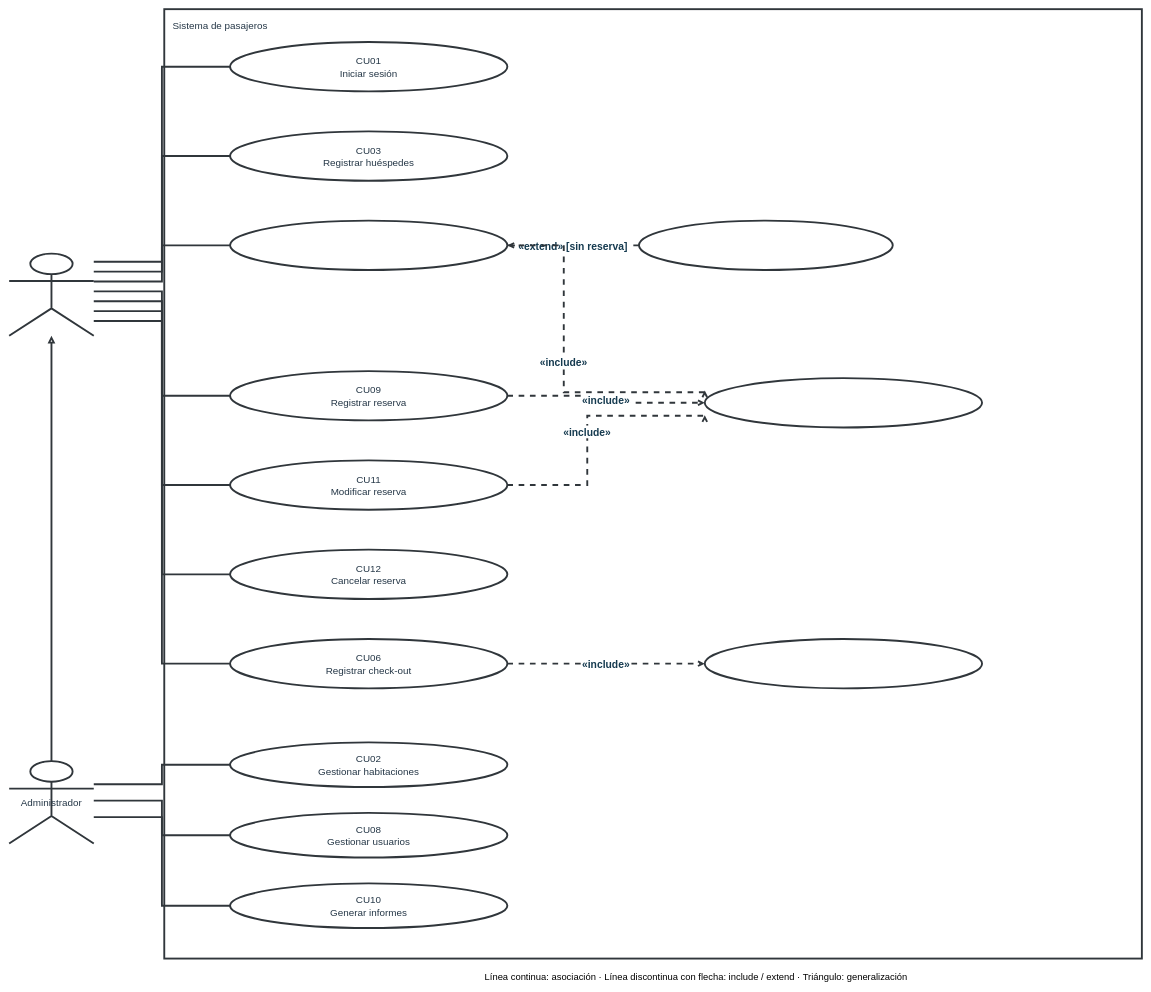
This 1151x992 diagram has some shape labels left out. Here are the shapes that lost their labels. From the top down, the centre of each, then its label:
At [368,245]: "CU04 Registrar check-in".
At [765,245]: "Ingreso directo (sin reserva)".
At [51,294]: "Encargado".
At [843,402]: "CU05 Consultar disponibilidad".
At [843,663]: "CU07 Calcular cuenta por pasajero".
